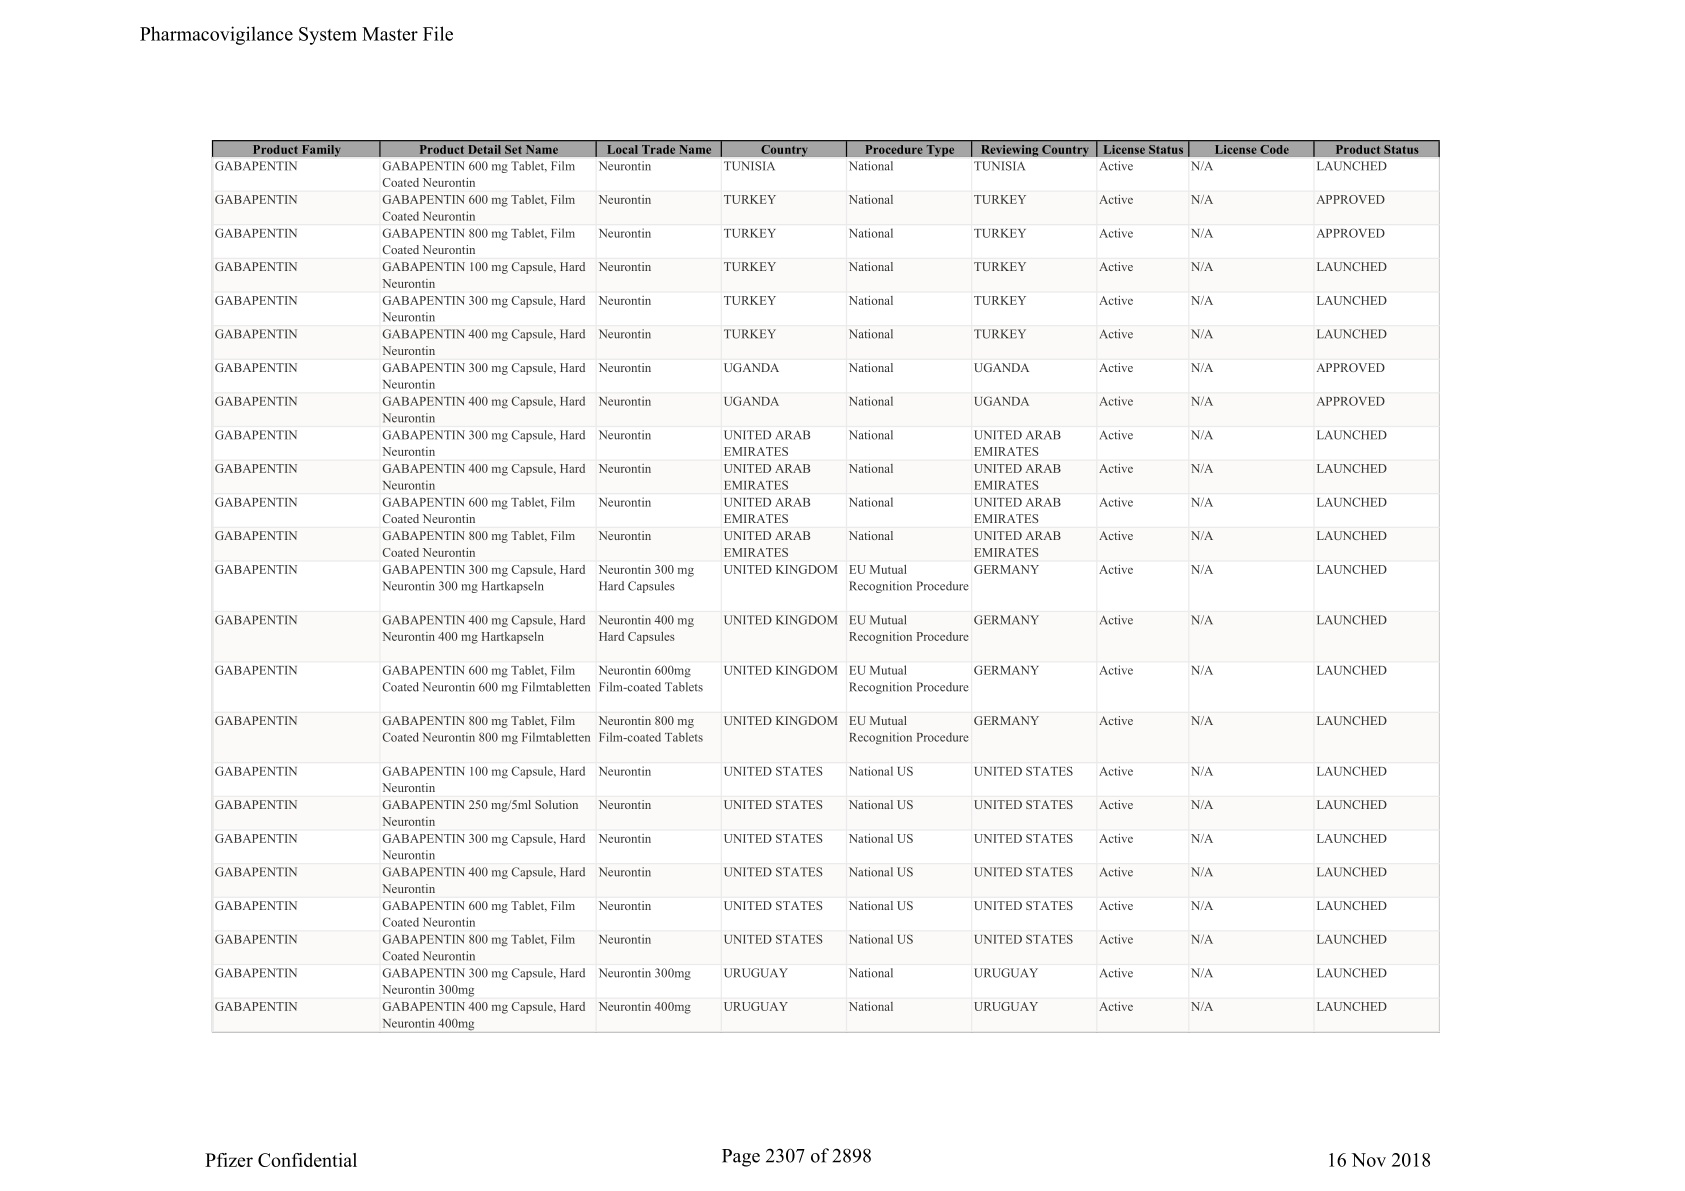full_lined: (210, 140, 1440, 1032)
